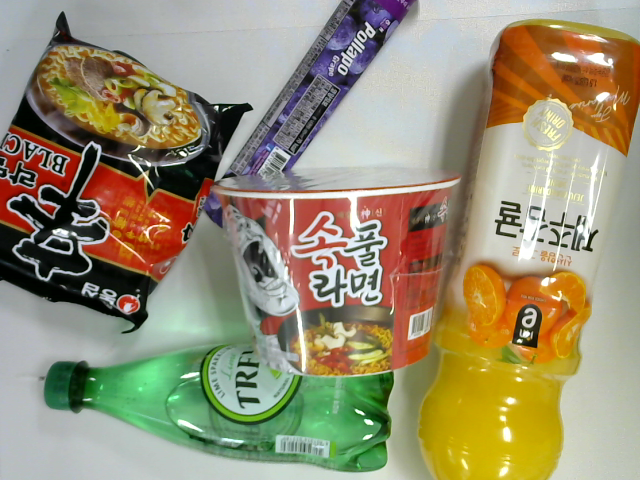Hejangpul: (204, 162, 475, 384)
Jeju_Tangerine_1.5L: (410, 11, 639, 480)
Polapo_Grape: (202, 1, 428, 241)
Sinramen_Black: (1, 11, 254, 341)
Treviraim_500ml: (35, 339, 402, 476)
